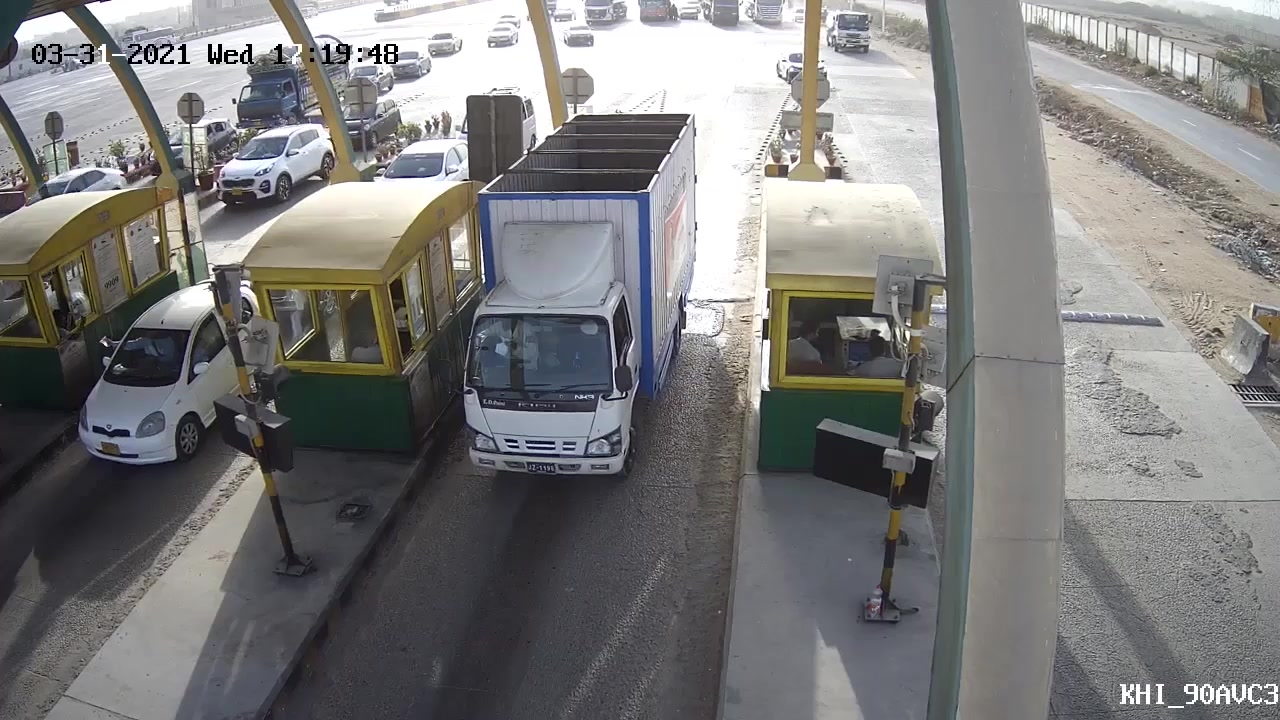F5: (453, 113, 707, 506)
